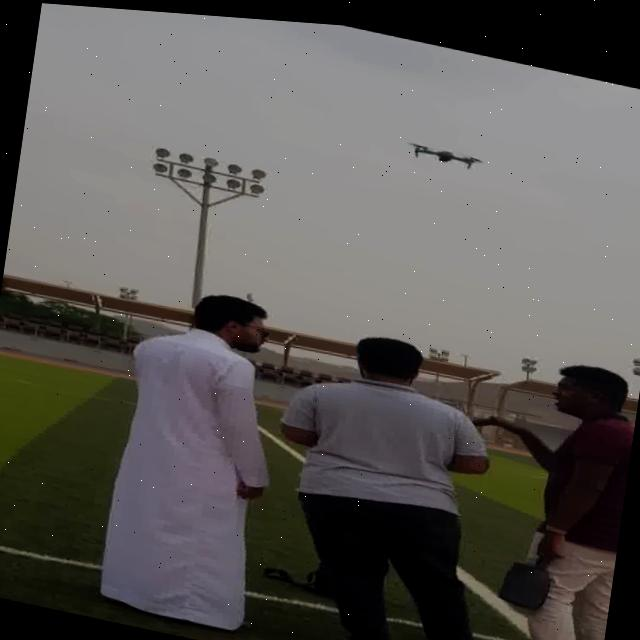drone: (400, 127, 482, 167)
